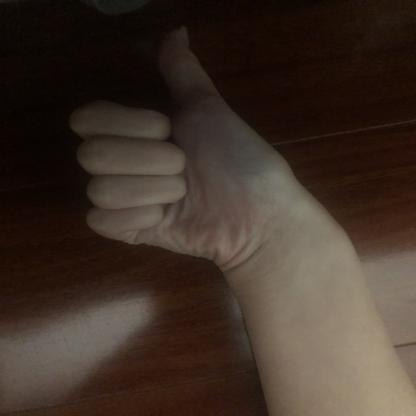Thumbs-Up: (60, 21, 289, 260)
